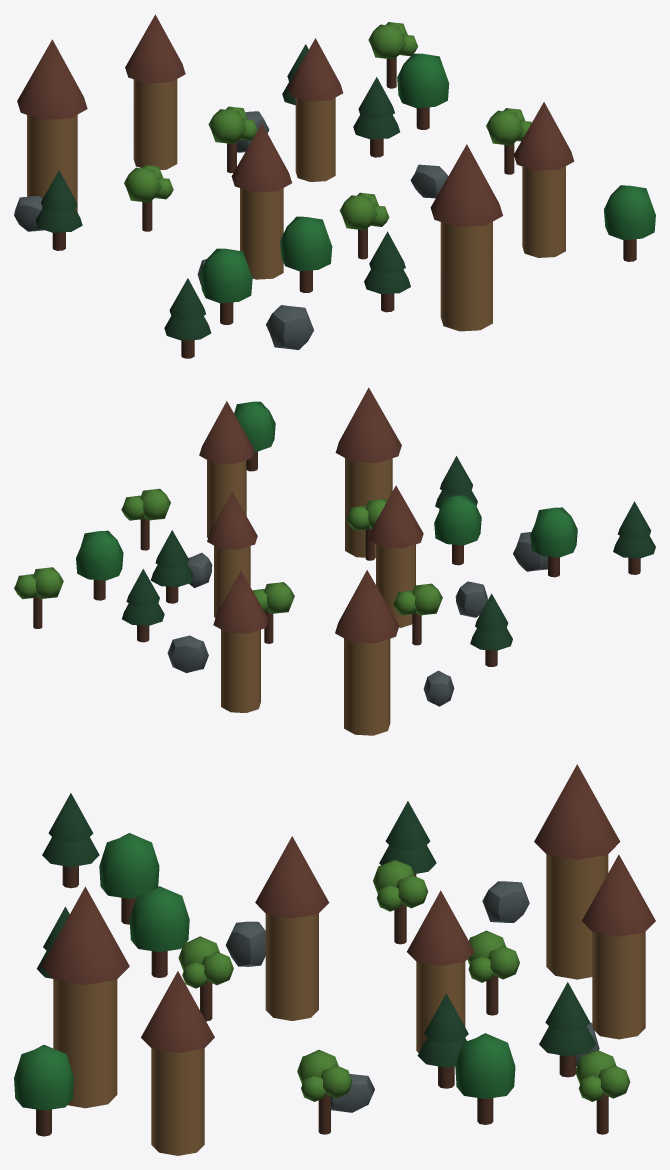
Rendered from SM_BlockoutMiniatures.fbx.
3 renders of one model, top to bottom at view 1: azimuth 30°, elevation 25°; view 2: azimuth 150°, elevation 25°; view 3: azimuth 270°, elevation 25°, orthographic. The views are drawn at different scales.
Visible parts, largest first — view 1: pCone2, pCone6, pCone7, pCone3, pCone5, pCone4, pCylinder5, pCylinder8, pCylinder6, pCylinder7, pCone12, pCone15 (+10 smaller); view 2: pCone6, pCone2, pCone7, pCone5, pCone3, pCone4, pCylinder5, pCylinder7, pCylinder8, pCone13, pCone15, pCone11 (+13 smaller); view 3: pCone2, pCone6, pCone5, pCone3, pCone7, pCone4, pCylinder5, pCylinder7, pCylinder6, pCylinder8, pCone11, pCone14 (+10 smaller).
Part boxes in pixels (x1,y1,x2,y2): pCone2: (430, 144, 502, 331); pCone6: (17, 39, 87, 211); pCone7: (125, 14, 185, 169); pCone3: (514, 102, 574, 257); pCone5: (231, 123, 291, 279); pCone4: (288, 38, 343, 181); pCylinder5: (397, 53, 449, 129); pCylinder8: (200, 248, 252, 324); pCylinder6: (604, 185, 655, 261); pCylinder7: (280, 216, 332, 292); pCone12: (364, 231, 410, 312); pCone15: (353, 77, 399, 157); pCone6: (335, 570, 399, 735); pCone2: (335, 387, 401, 558); pCone7: (213, 571, 268, 712); pCone5: (368, 485, 423, 627); pCone3: (199, 401, 254, 537); pCone4: (207, 491, 257, 617); pCylinder5: (76, 530, 123, 600); pCylinder7: (434, 495, 481, 565); pCylinder8: (530, 507, 577, 577); pCone13: (470, 593, 512, 666); pCone15: (151, 530, 193, 603); pCone11: (613, 501, 655, 574); pCone2: (41, 886, 129, 1108); pCone6: (534, 764, 620, 979); pCone5: (255, 836, 329, 1020); pCone3: (141, 971, 214, 1155); pCone7: (582, 854, 655, 1039); pCone4: (407, 890, 474, 1052); pCylinder5: (455, 1033, 515, 1124); pCylinder7: (129, 886, 189, 977); pCylinder6: (14, 1045, 73, 1136); pCylinder8: (99, 833, 159, 924); pCone11: (42, 793, 99, 888); pCone14: (539, 982, 596, 1077).
Bounding box in the file's own units: 94.94 × 34.32 × 94.29.
